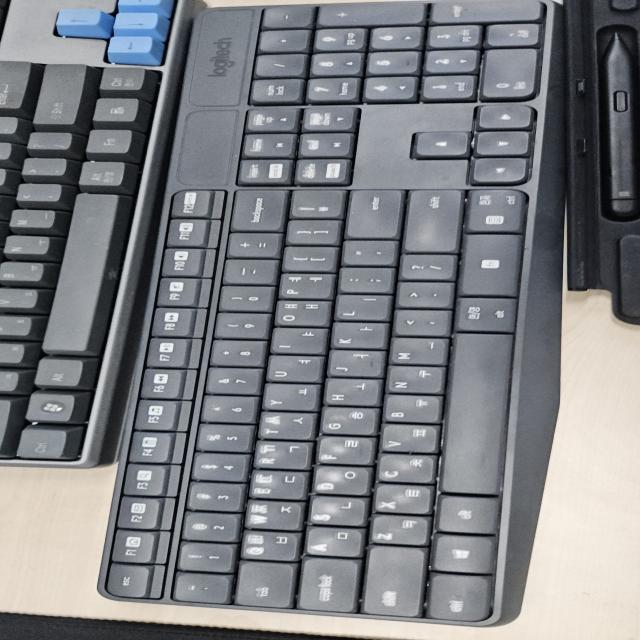Keyboard: (4, 1, 633, 630)
